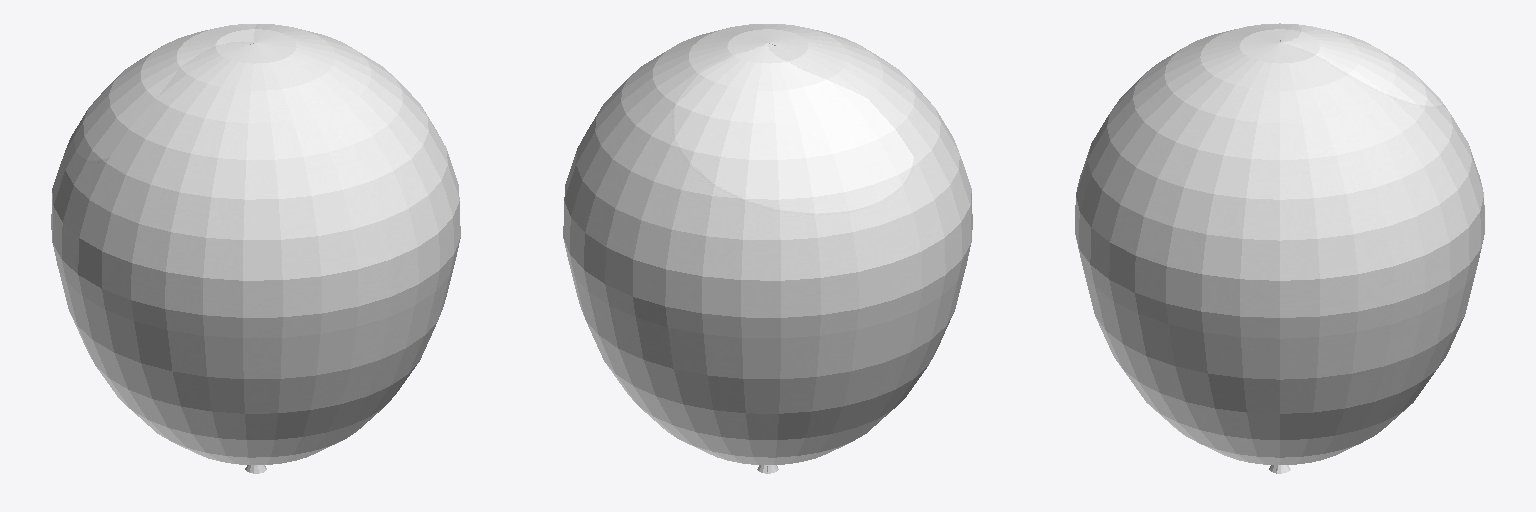
The picture shows the model from 3 angles: view 1: azimuth 30°, elevation 25°; view 2: azimuth 150°, elevation 25°; view 3: azimuth 270°, elevation 25°; orthographic projection.
Visible parts, largest first — view 1: globoRoto; view 2: globoRoto; view 3: globoRoto.
Part boxes in pixels (bbox=[...]): globoRoto: bbox=[51, 24, 460, 473]; globoRoto: bbox=[563, 24, 972, 473]; globoRoto: bbox=[1075, 23, 1484, 473].
Size of the model in its own units: 1.2 by 1.38 by 1.2.
1 materials, 1 textured.